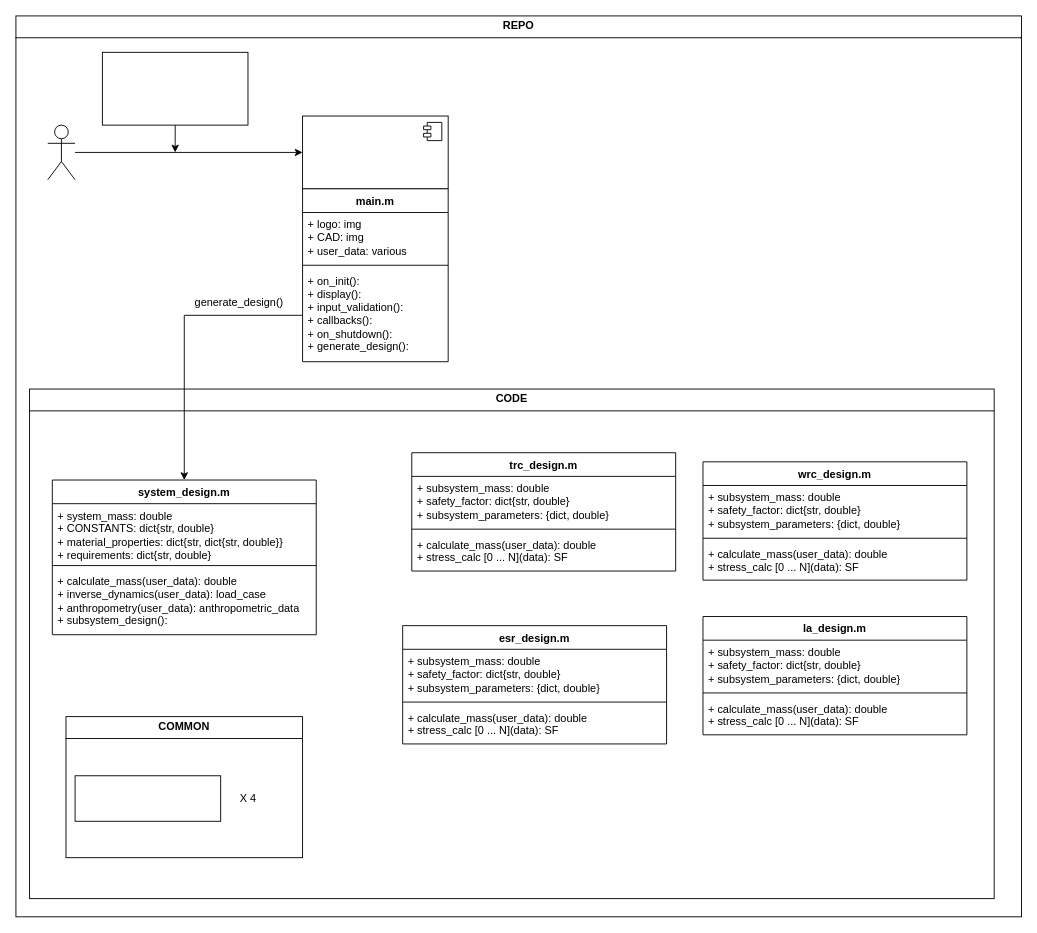
Image size: 1037x933. Some labels were removed from this diagram. The shapes that lost their labels are listed below. From the top down, each one's centre as x and y in pixels, then its label:
At pixel 174 88: "UserData user_weight uniqueId user_height foreignKey user_age fieldname".
At pixel 61 152: "M. Doumit".
At pixel 375 152: "«MATLAB GUI» entry point to program".
At pixel 147 798: "common_calc.m + calc(): Type".
